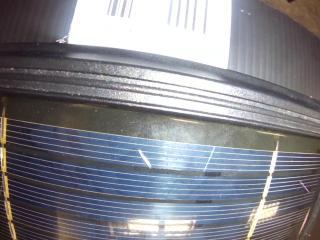crack: (203, 147, 214, 172), (138, 150, 150, 168), (300, 180, 310, 192)
solarboard: (1, 96, 320, 240)
